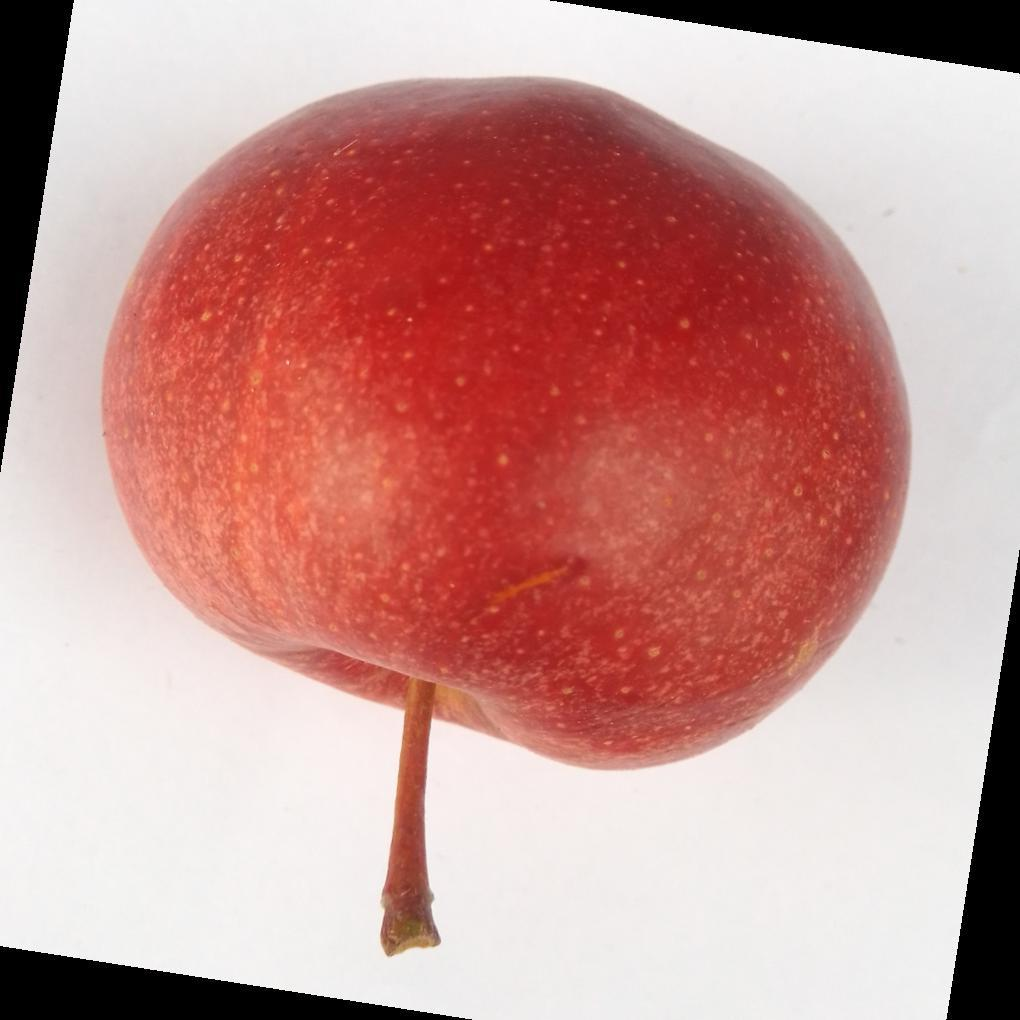FreshGuava: (98, 77, 912, 958)
